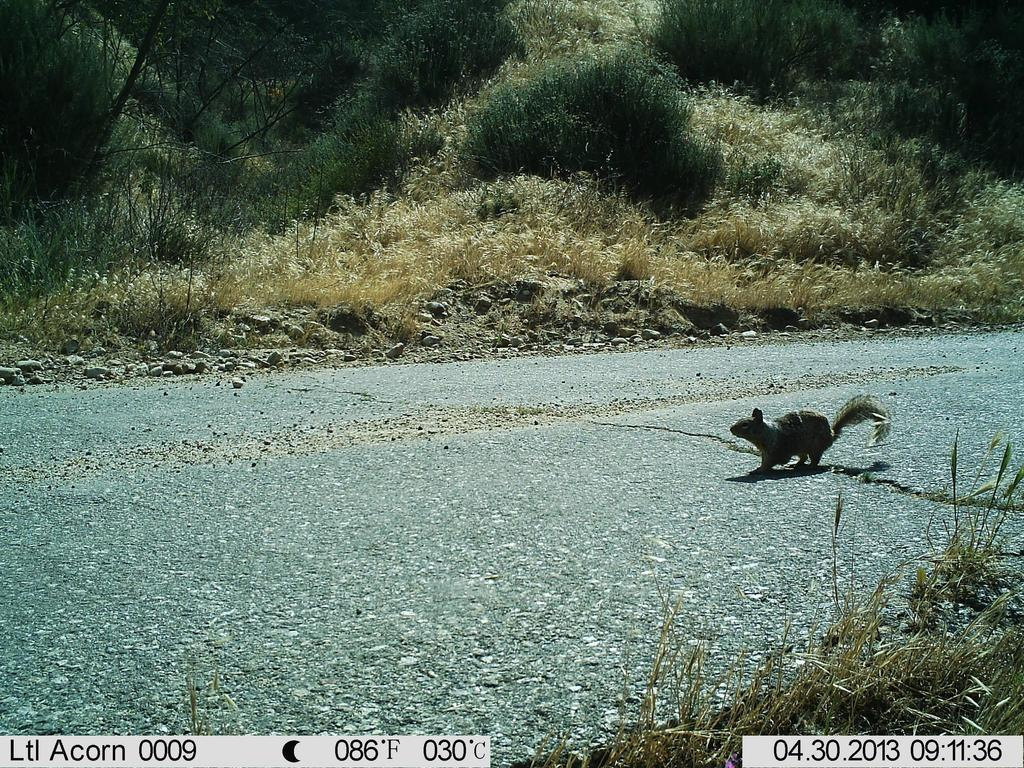squirrel: (721, 389, 898, 500)
